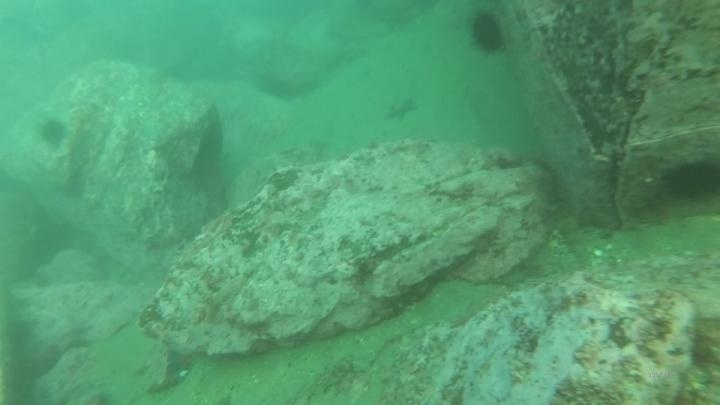echinus: (661, 155, 719, 204), (467, 10, 507, 57), (36, 116, 69, 150)
starfish: (383, 94, 420, 124)
